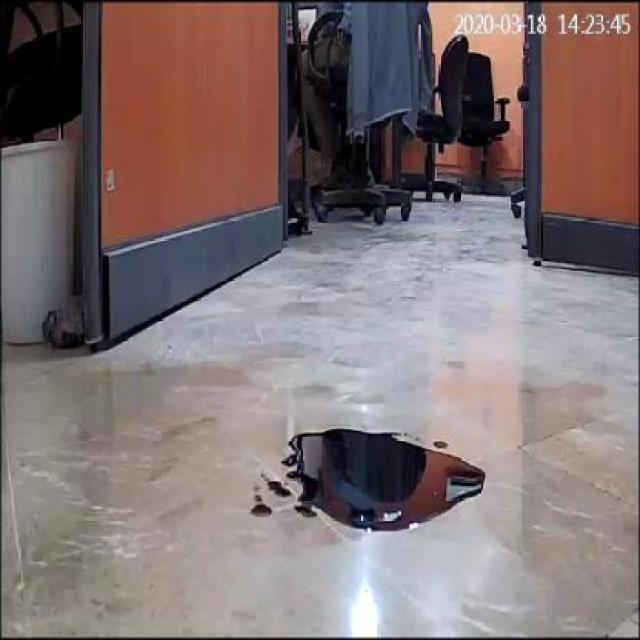spill: (290, 424, 482, 532)
